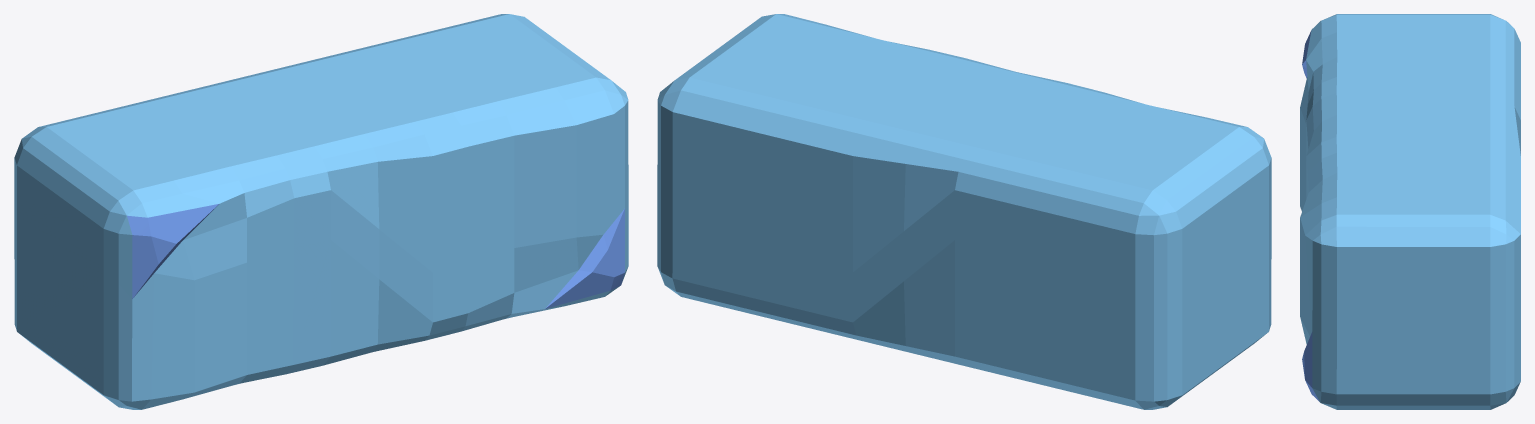
Rendered from bigbluebutton 2.fbx.
3 views of the same model, side by side, from view 1: azimuth 30°, elevation 25°; view 2: azimuth 150°, elevation 25°; view 3: azimuth 270°, elevation 25° (orthographic). The views are drawn at different scales.
Parts seen in each view (by area): view 1: pCube3; view 2: pCube3; view 3: pCube3.
Boxes of the visible parts, left/top/right/bottom form: pCube3: left=14, top=14, right=628, bottom=409; pCube3: left=657, top=14, right=1271, bottom=409; pCube3: left=1300, top=14, right=1520, bottom=409.
Size of the model in its own units: 2.49 by 1 by 1.03.
